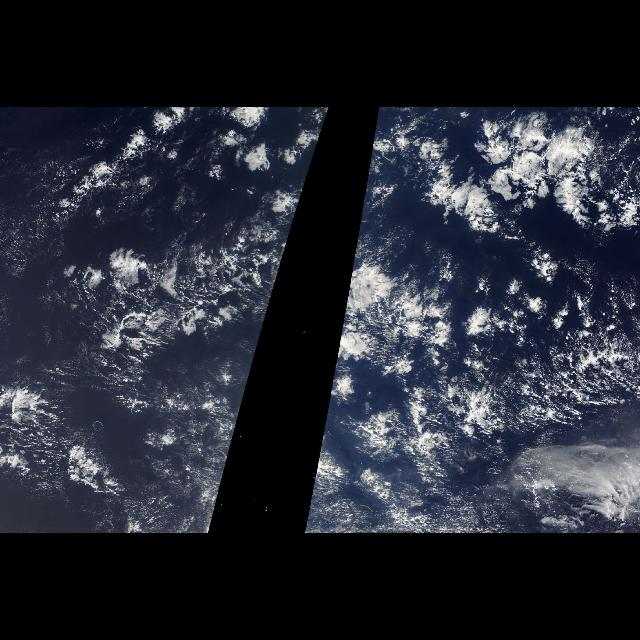Gravel: (366, 132, 628, 432)
